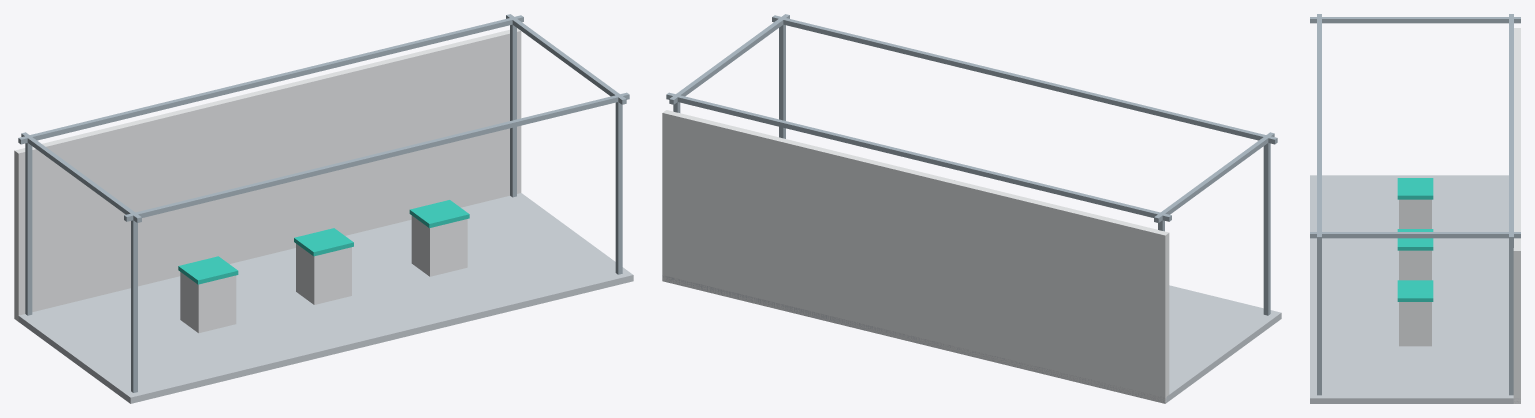
The picture shows the model from 3 angles, left to right: view 1: azimuth 30°, elevation 25°; view 2: azimuth 150°, elevation 25°; view 3: azimuth 270°, elevation 25°; orthographic projection. The views are drawn at different scales.
Visible parts, largest first — view 1: Exhibition Booth Concept; view 2: Exhibition Booth Concept; view 3: Exhibition Booth Concept.
Boxes of the visible parts, left/top/right/bottom form: Exhibition Booth Concept: left=14, top=14, right=633, bottom=403; Exhibition Booth Concept: left=662, top=14, right=1281, bottom=403; Exhibition Booth Concept: left=1310, top=14, right=1520, bottom=403.
Size of the model in its own units: 10 by 3.49 by 4.
